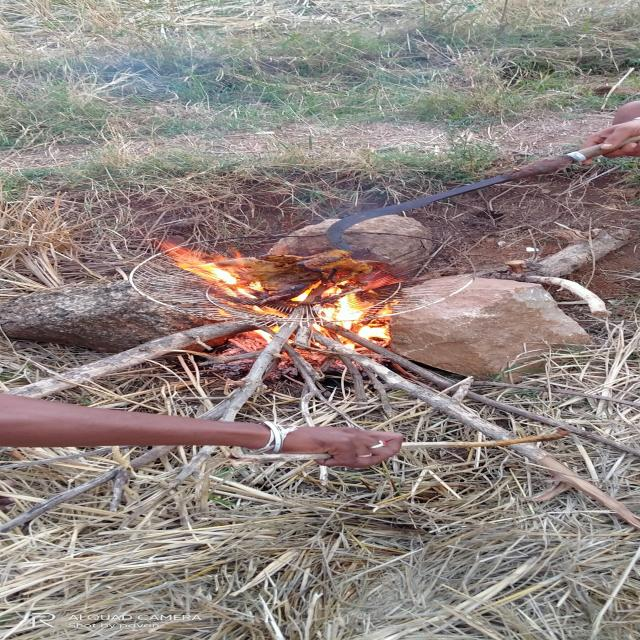Fire: (162, 226, 402, 364)
